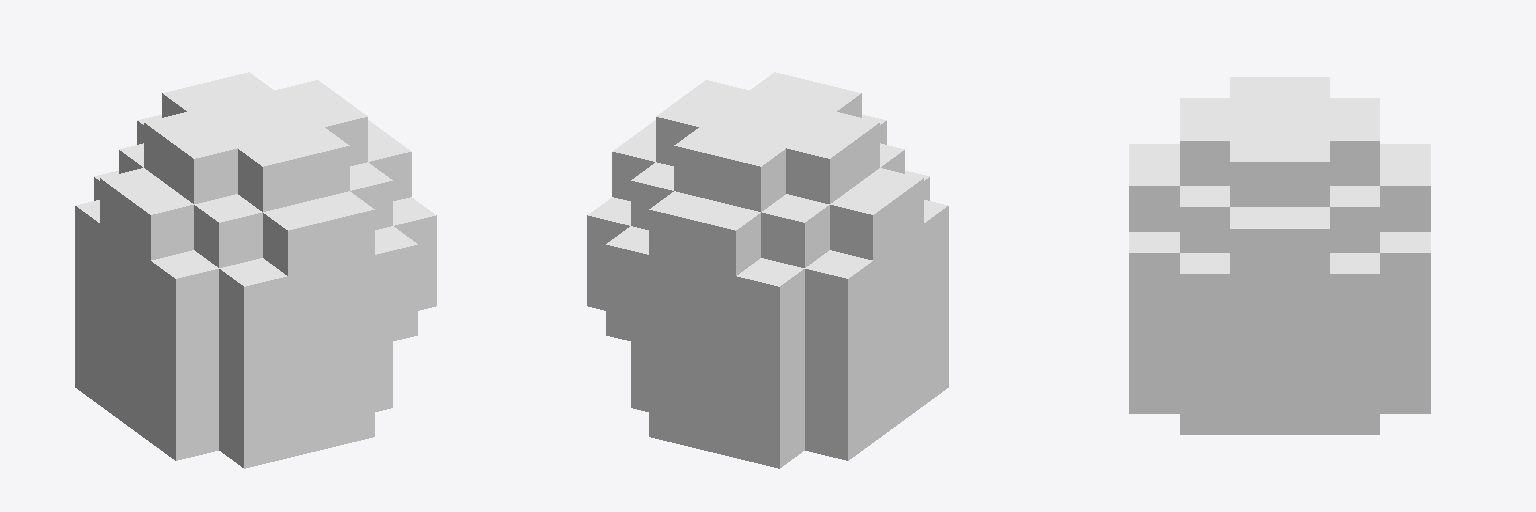
File: maps1demo-2.obj
3 renders of one model, left to right at view 1: azimuth 30°, elevation 25°; view 2: azimuth 150°, elevation 25°; view 3: azimuth 270°, elevation 25°, orthographic.
Visible parts, largest first — view 1: object 1; view 2: object 1; view 3: object 1.
Boxes of the visible parts, x1,y1,x2,y2 form: object 1: [75, 72, 436, 468]; object 1: [587, 72, 948, 468]; object 1: [1129, 77, 1430, 434].
Size of the model in its own units: 0.6 by 0.6 by 0.6.